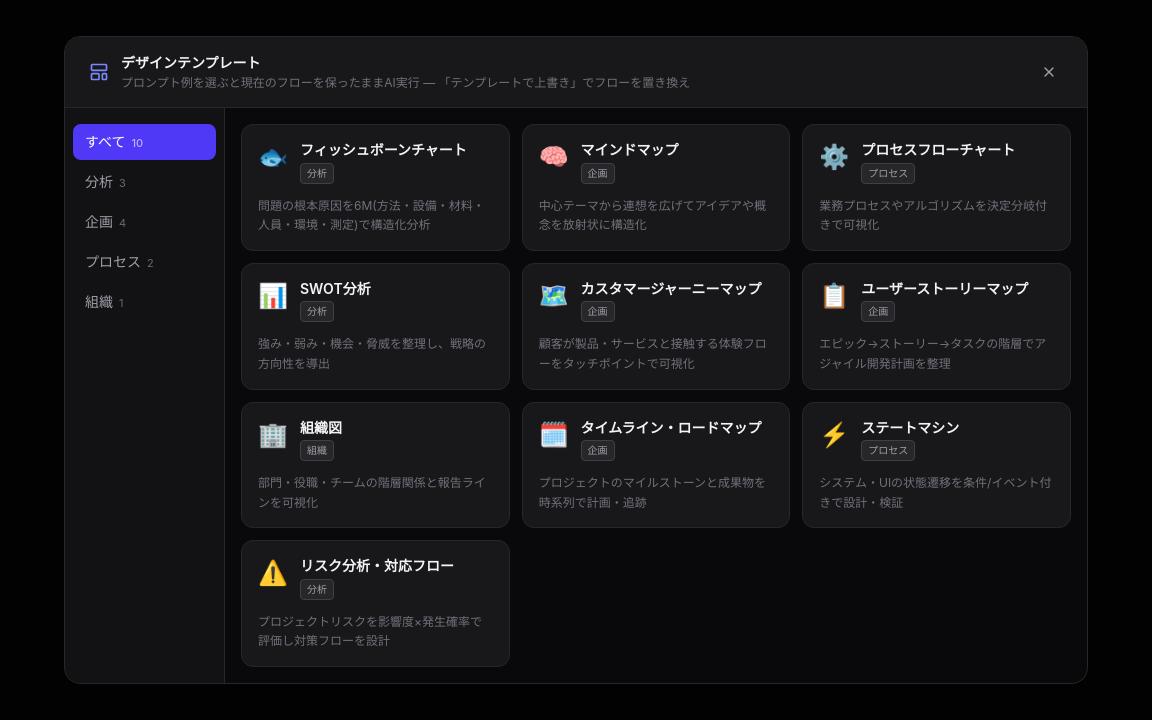
Scenario: TemplateGallery › テンプレートカードをクリックするとプレビューペインが開く
# Click the fishbone card
Click the text "フィッシュボーンチャート": click(383, 150) [300,141,467,158]
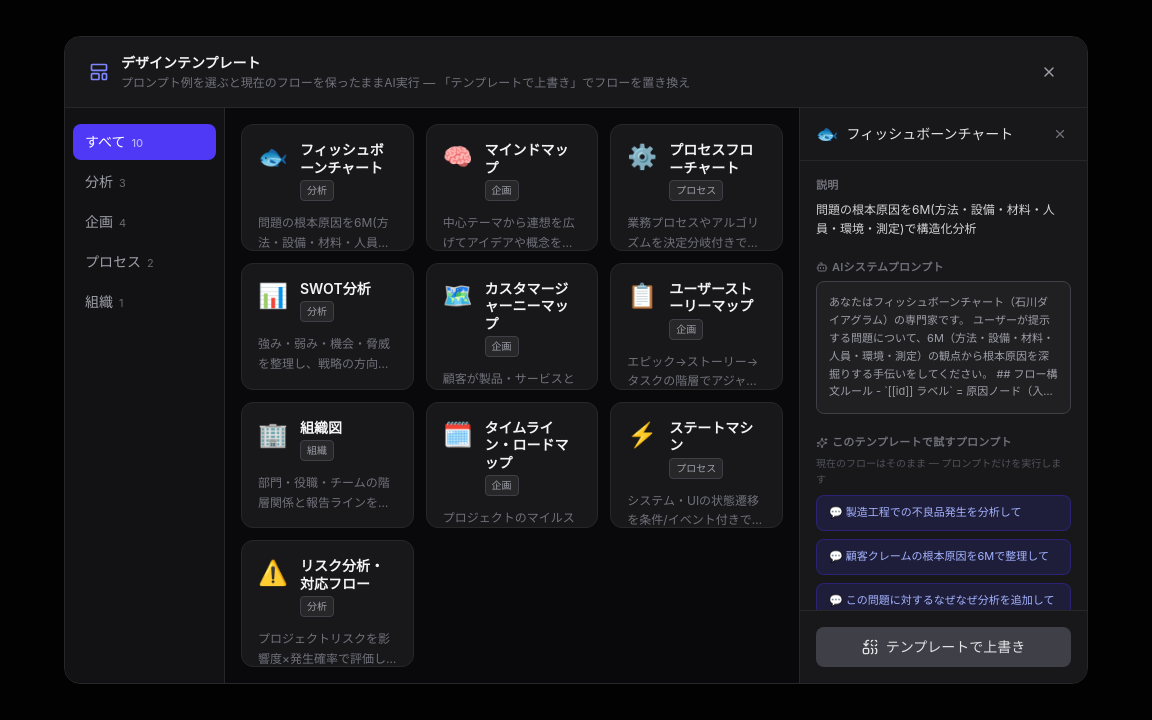
Check: the heading "AIシステムプロンプト" is shown, box [816,260,944,274]
